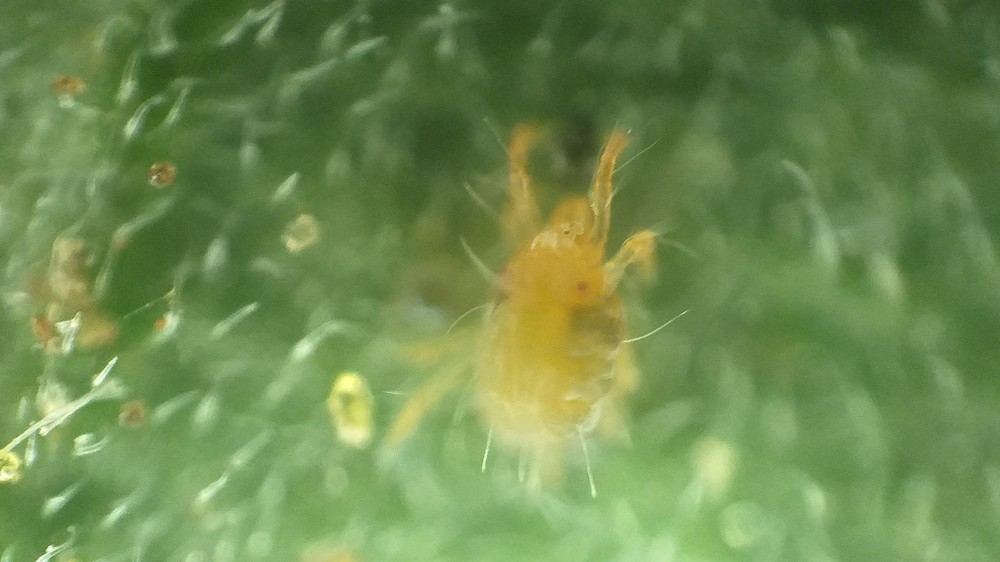Aracnido Rojo: (400, 113, 700, 501)
